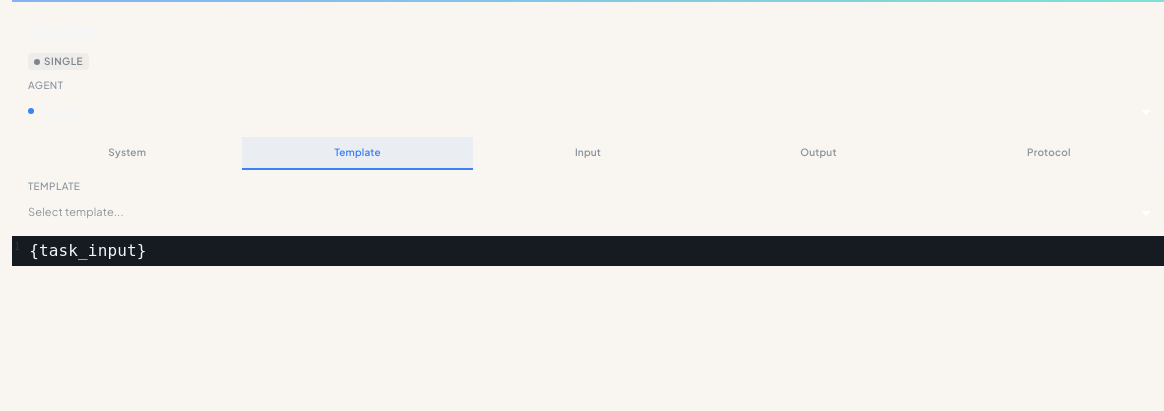
it: StepProperties › input tab › renders upstream step schema when output_schema_id is set
What coordinates should you click on to do the following:
click the tab "Input"
I would click on:
 (588, 152)
Its box is 575,146 -> 601,158.
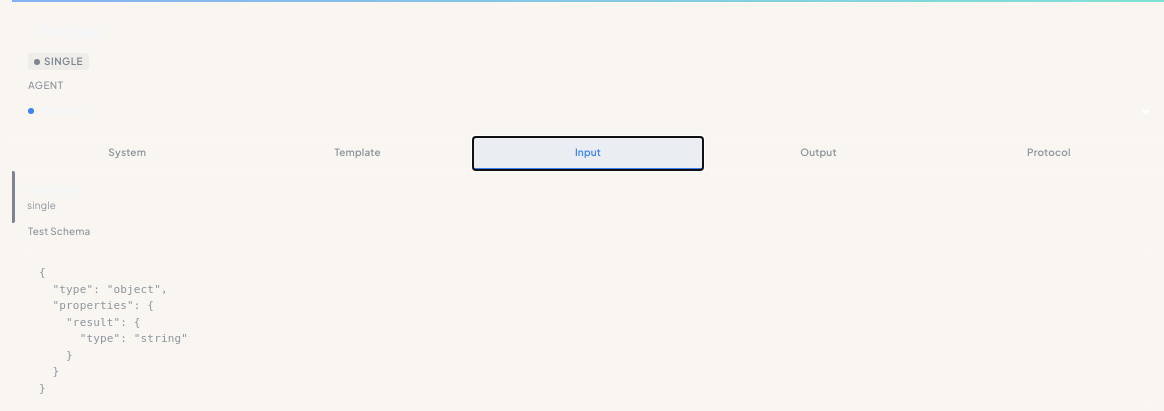
Expected: the text "Test Schema" is shown, 28,225 -> 90,237
Expected: the text "\"result\"" is shown, 39,266 -> 188,395
